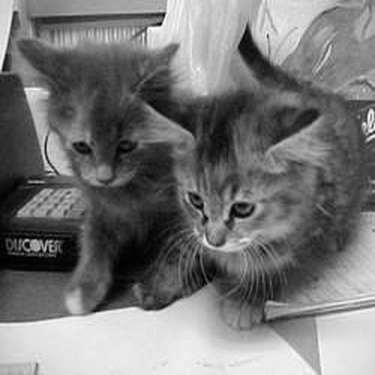cat: (129, 17, 366, 331), (16, 38, 180, 317)
